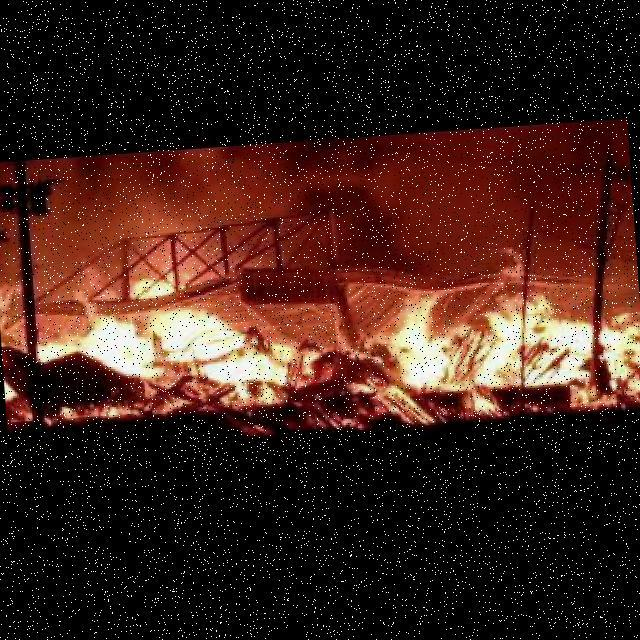Fire: (378, 279, 640, 417), (25, 299, 320, 401), (133, 274, 176, 299)
